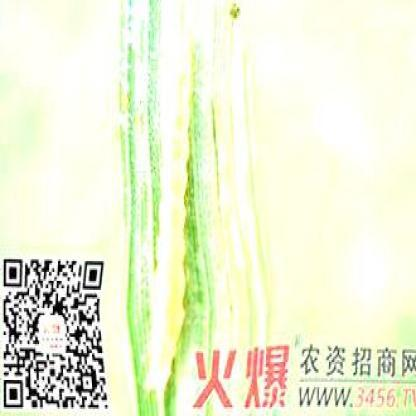leaf-folder: (136, 6, 190, 384)
